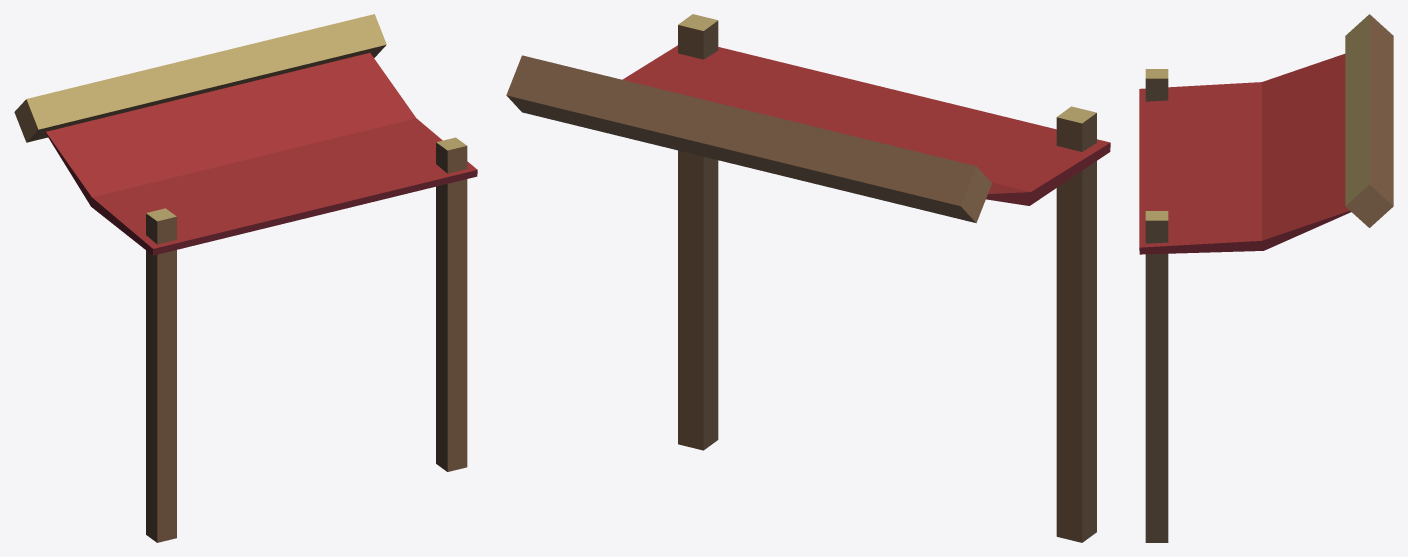
The model's file is TB_D_Bd_Canopy_WLeg_A.FBX.
The picture shows the model from 3 angles, left to right: view 1: azimuth 30°, elevation 25°; view 2: azimuth 150°, elevation 25°; view 3: azimuth 270°, elevation 25°; orthographic projection. The views are drawn at different scales.
Parts seen in each view (by area): view 1: TB_D_Bd_Canopy_WLeg_A; view 2: TB_D_Bd_Canopy_WLeg_A; view 3: TB_D_Bd_Canopy_WLeg_A.
Part boxes in pixels (x1,y1,x2,y2): TB_D_Bd_Canopy_WLeg_A: (14,14,477,542); TB_D_Bd_Canopy_WLeg_A: (506,14,1110,542); TB_D_Bd_Canopy_WLeg_A: (1139,14,1393,542).
Bounding box in the file's own units: 2.5 × 2.52 × 1.58.
